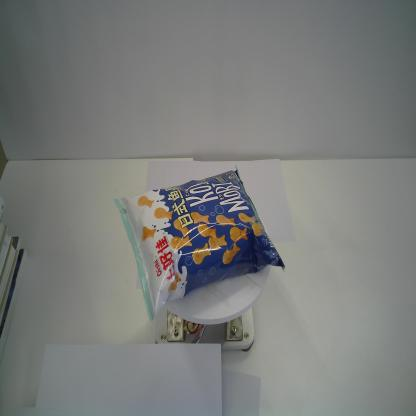Puffed Food: (112, 164, 286, 322)
